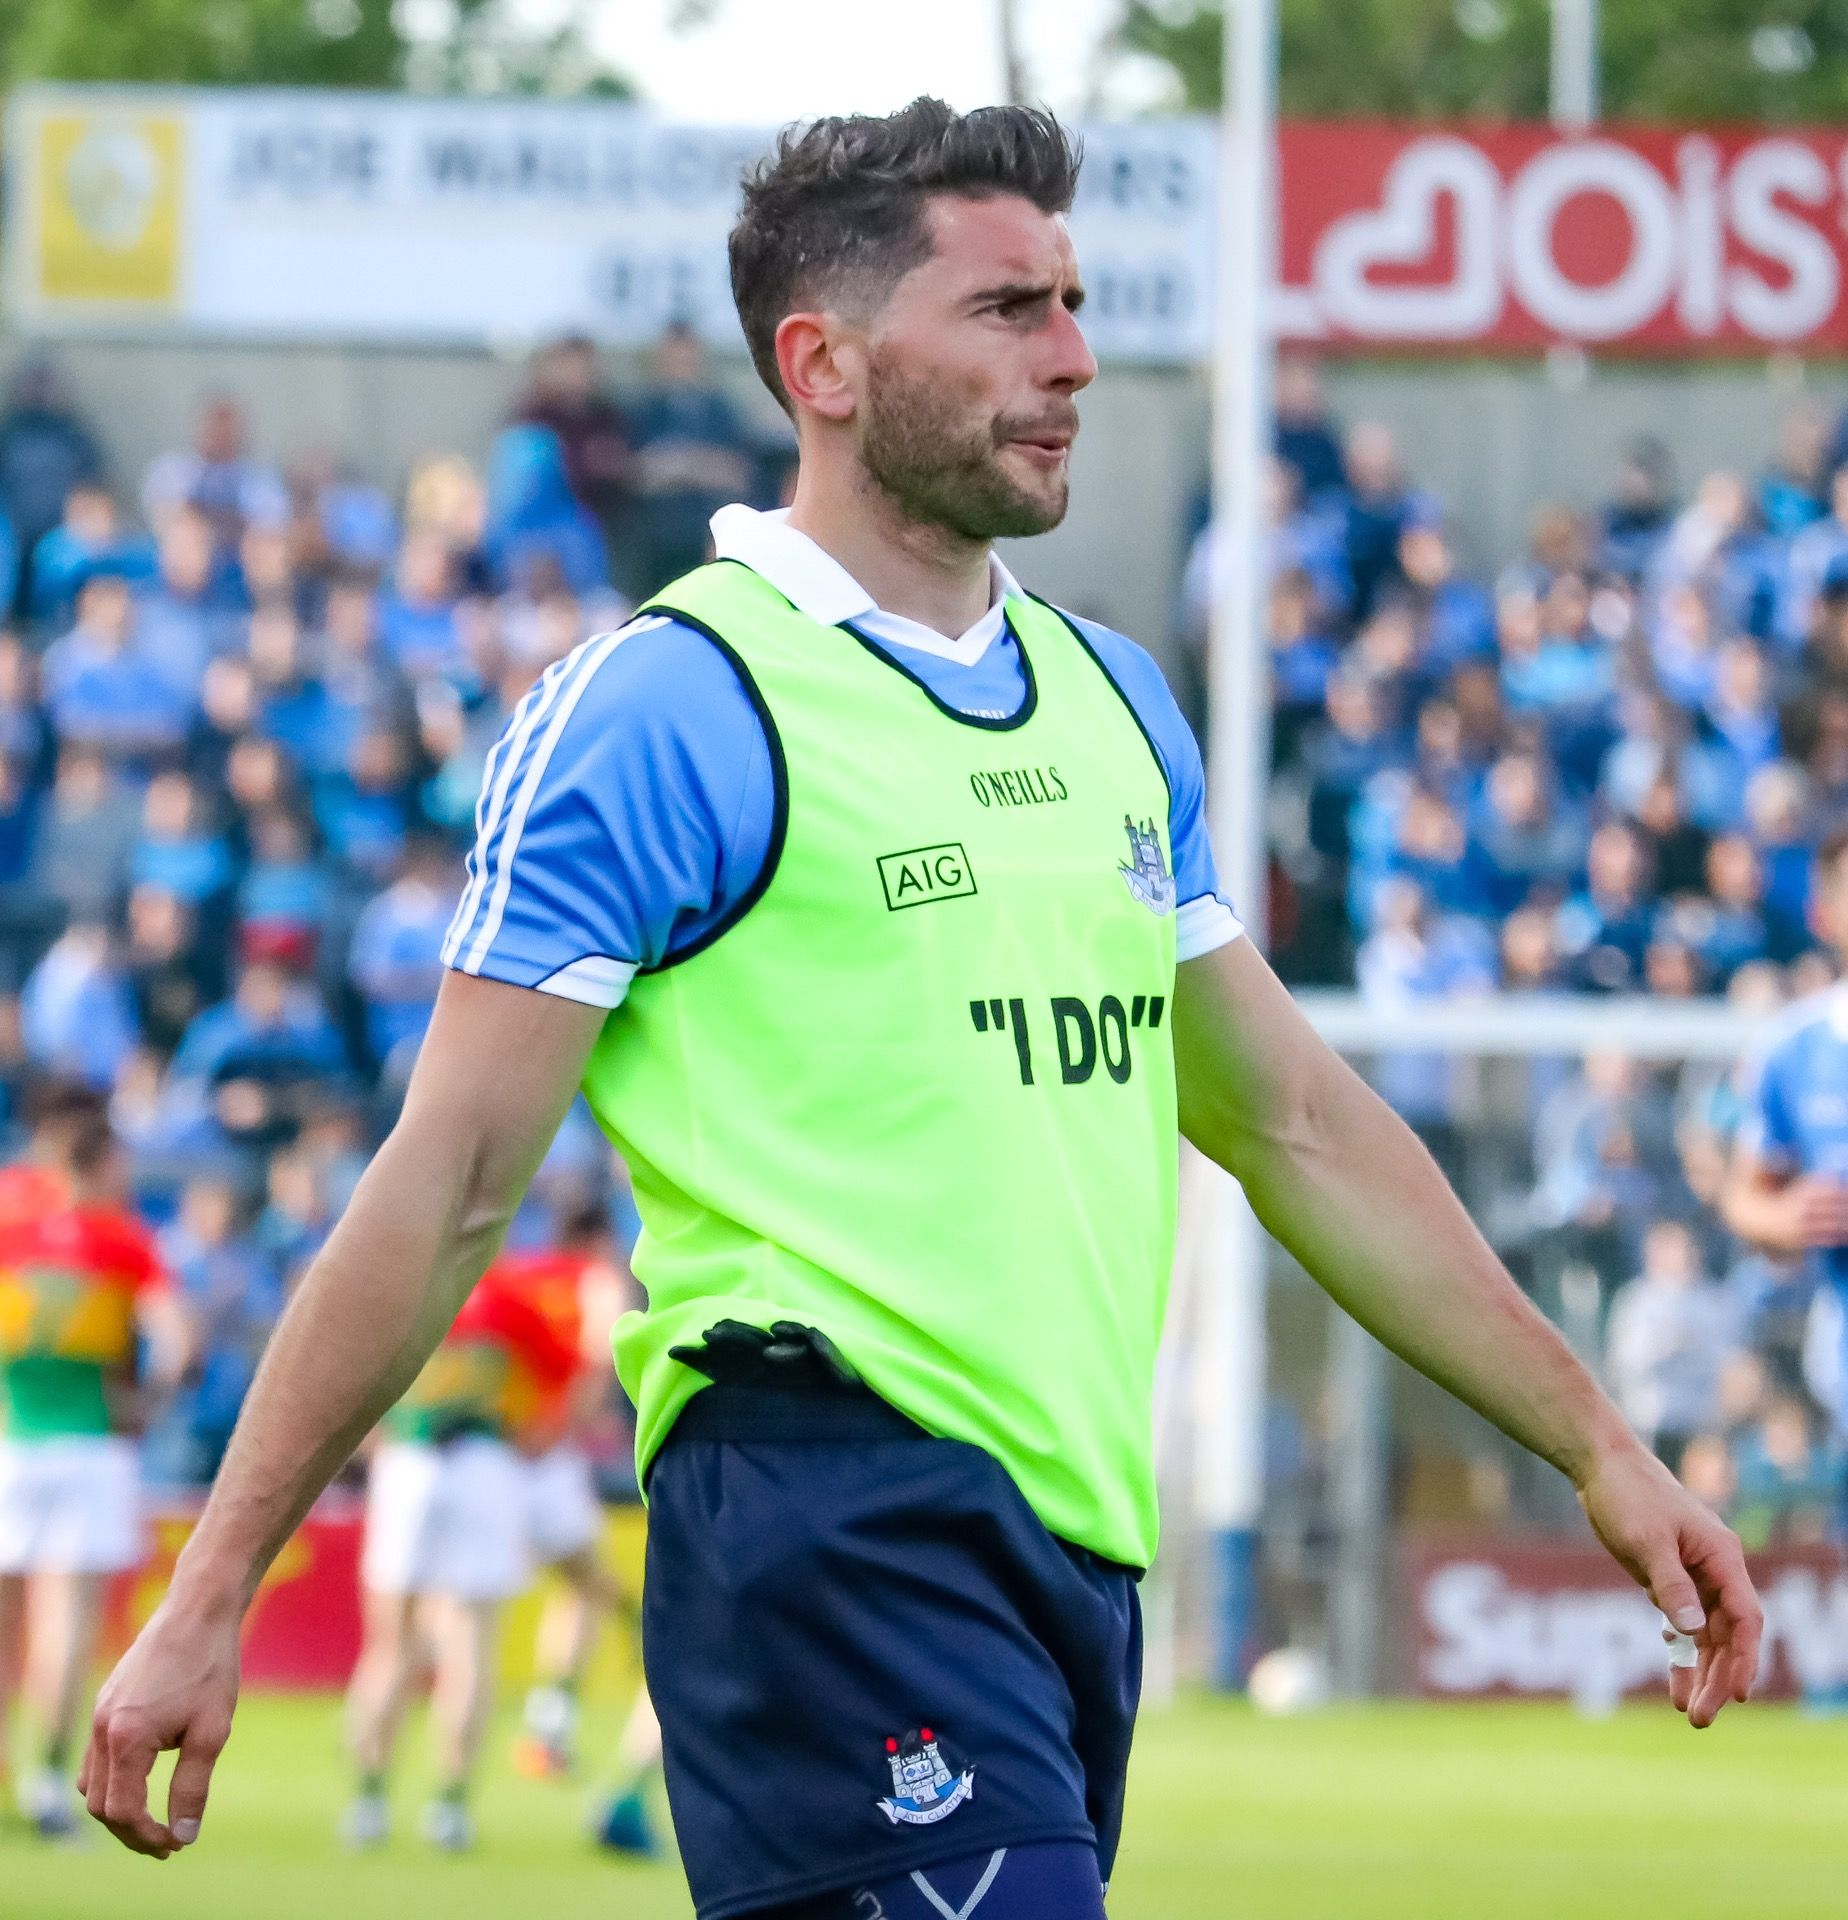player: (420, 68, 1398, 1764)
